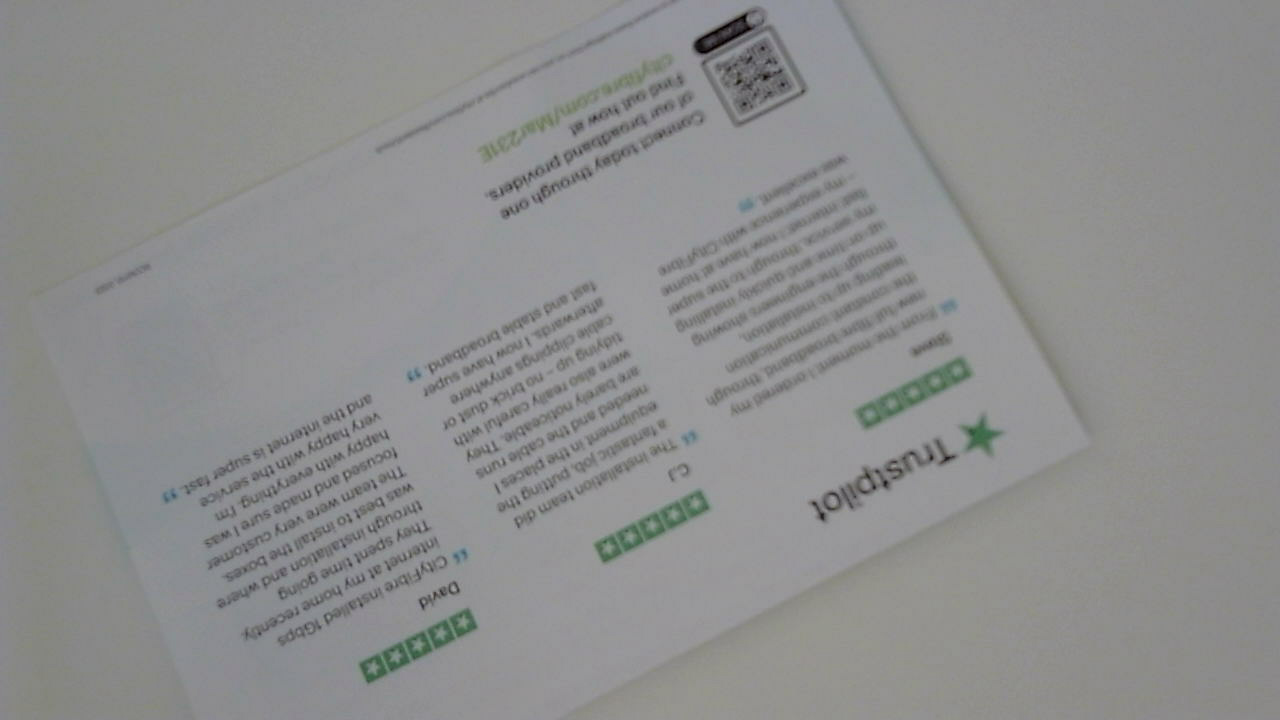Mixed Paper: (20, 12, 1105, 720)
